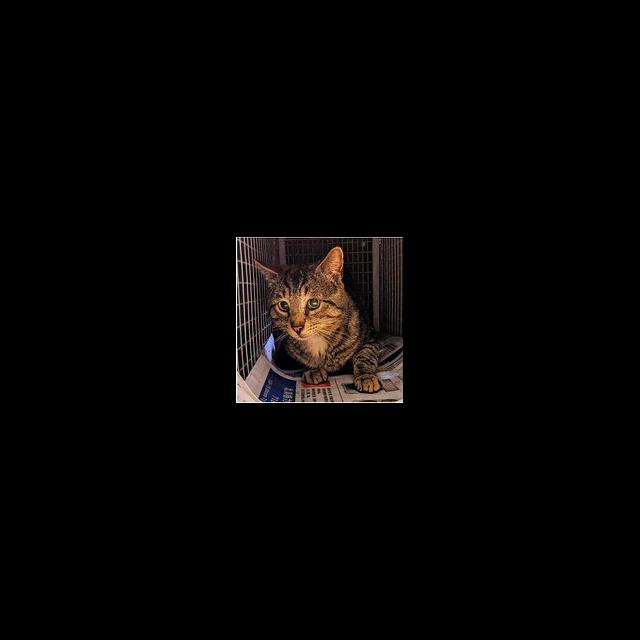animals: (254, 247, 382, 392)
